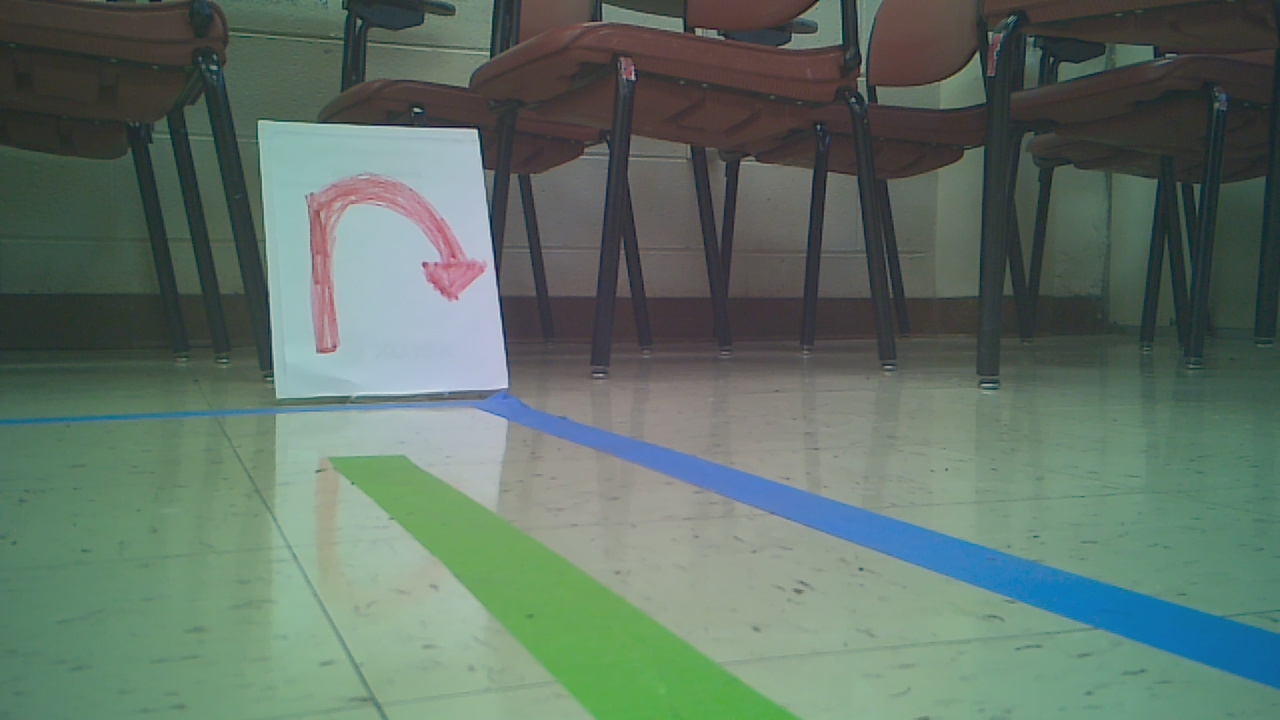greenline: (332, 453, 789, 719)
uturn: (295, 165, 496, 357)
